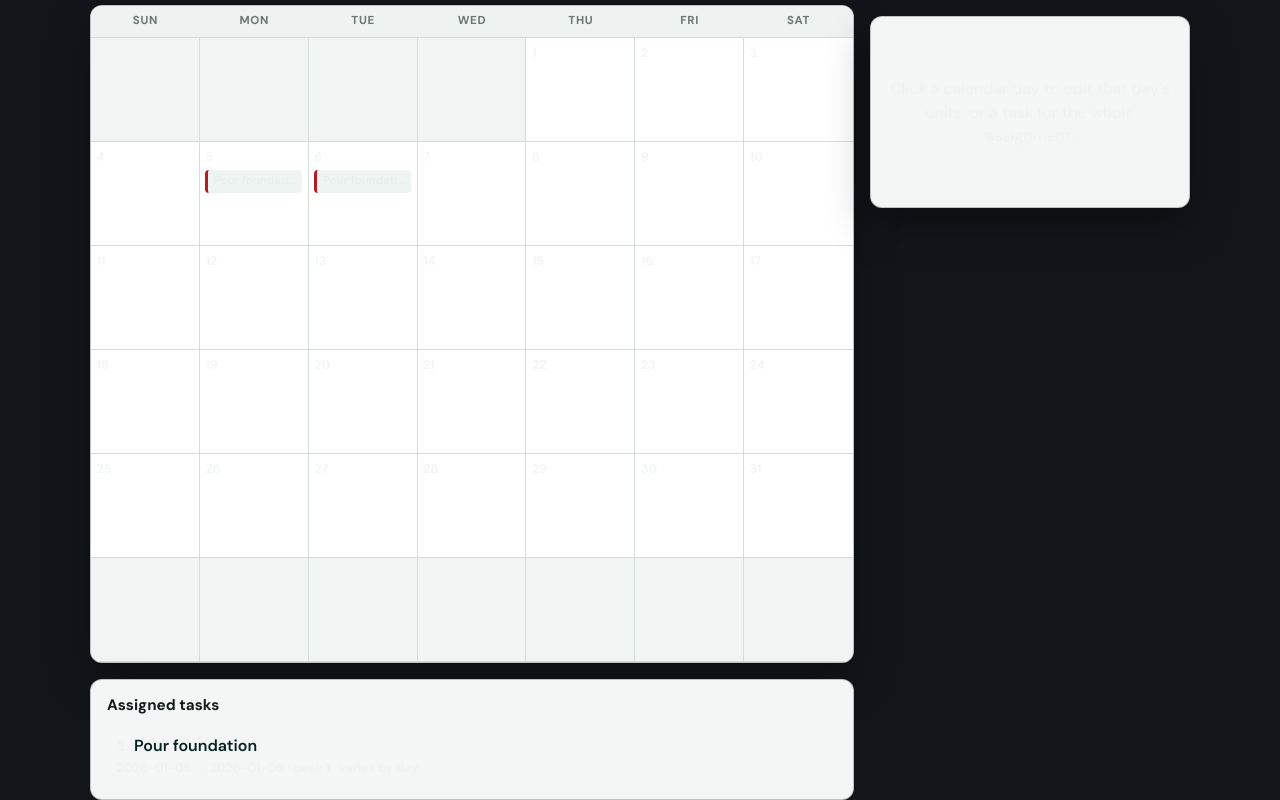
Test: ResourceCalendarPage › shows assigned tasks on the calendar and opens the editor
(page scrolled)
Check: the element with test id "resource-calendar-month" is shown, box [90,5,854,663]
// List row opens the whole-assignment editor (day cells also include chip text).
Click the button with class "resource-cal-list-item" at (196, 745), box [107,725,837,785]
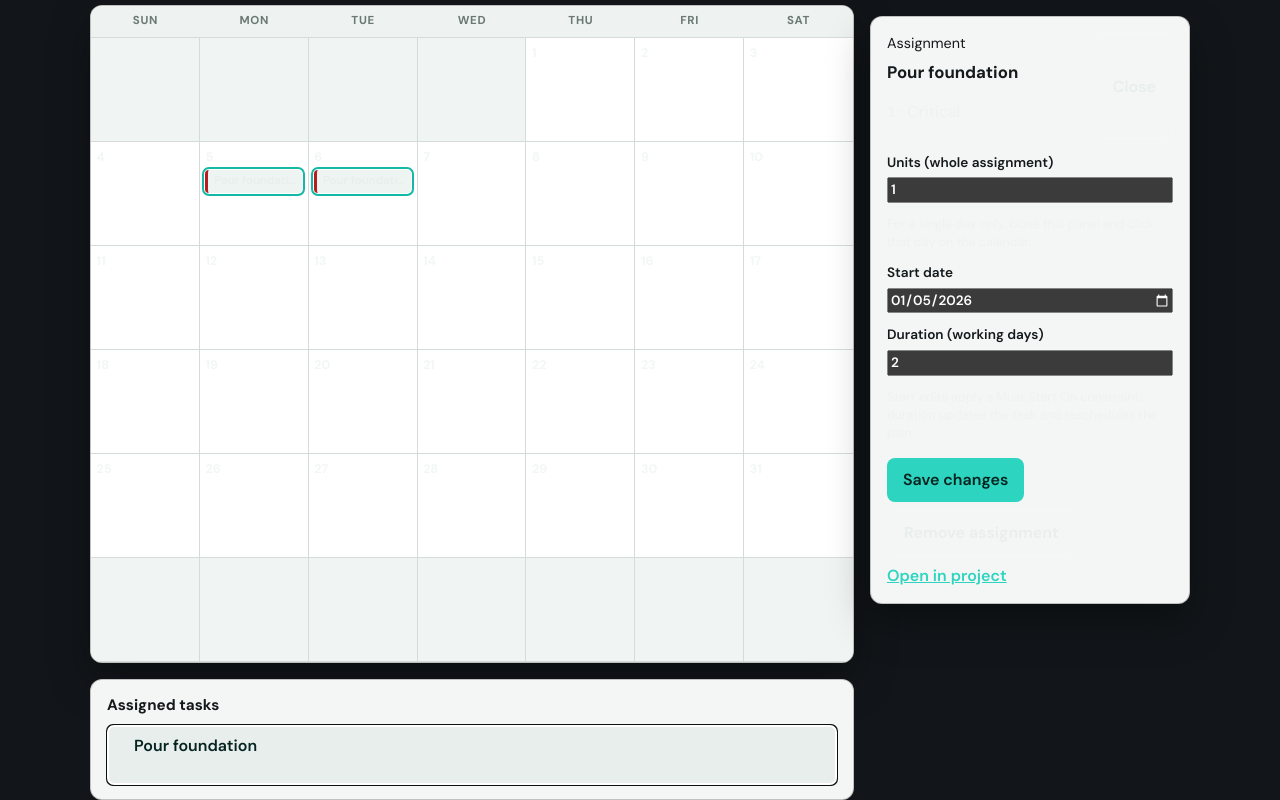
Check: the element with test id "resource-assignment-editor" is shown, box [870,16,1190,604]
Check: the number field with test id "resource-cal-units" holds "1", box [887,177,1173,203]
Click the button "5 Pour foundation 1" at (254, 194), box [200,142,309,246]
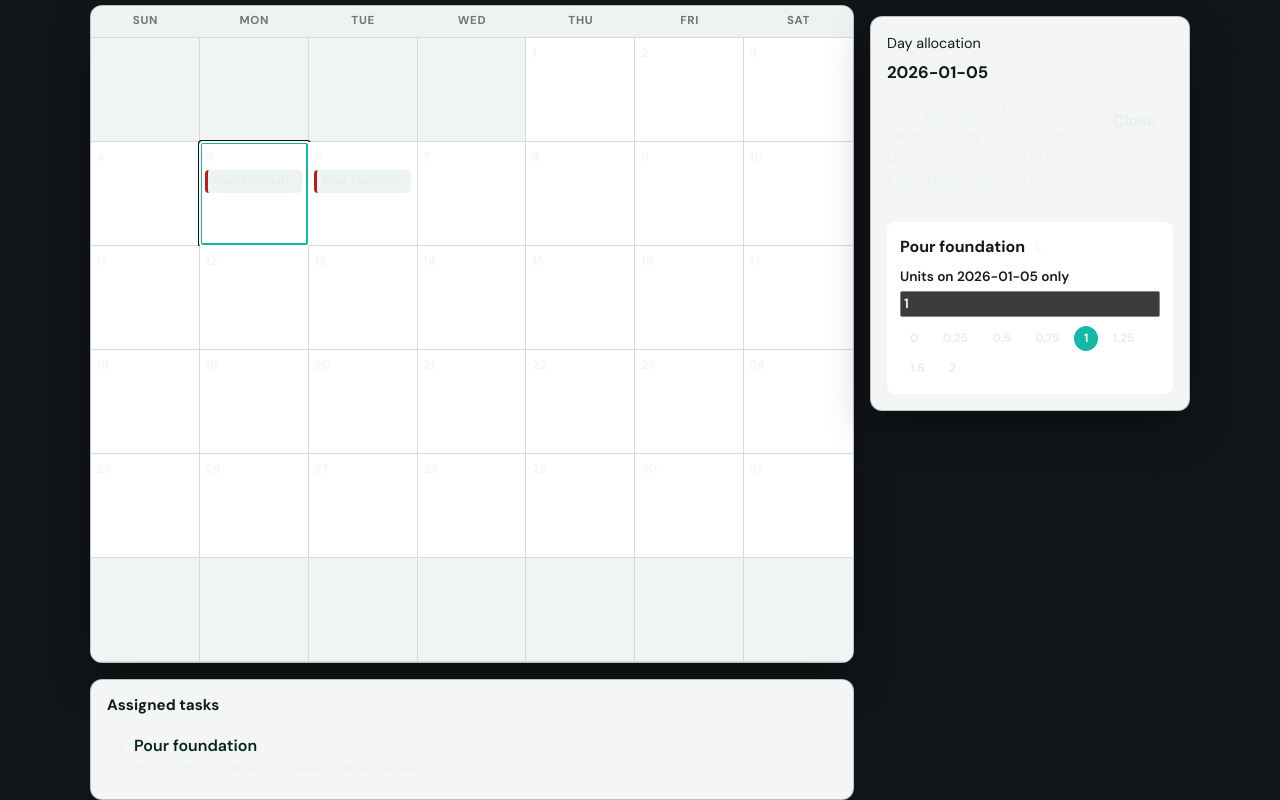
Check: the element with test id "resource-day-allocation" is shown, box [870,16,1190,411]
Check: the number field with test id "resource-day-units-44444444-4444-4444-8444-444444444444" holds "1", box [900,291,1160,316]
